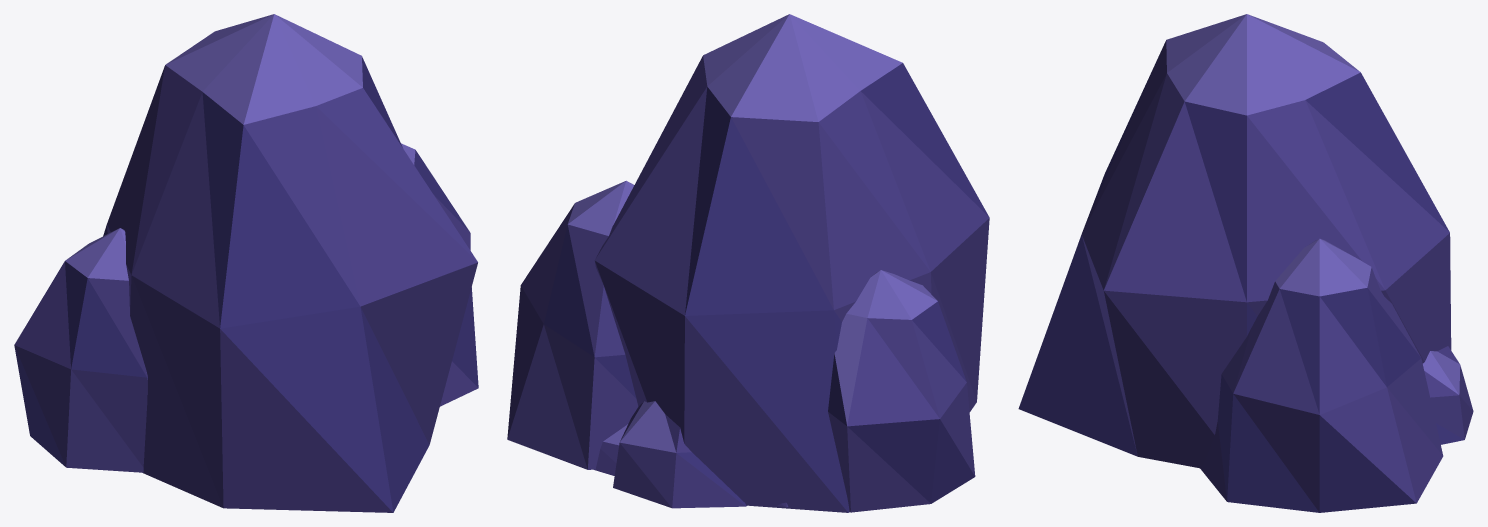
Rendered from Mine_Perimeter_Corner.obj.
The picture shows the model from 3 angles, left to right: view 1: azimuth 30°, elevation 25°; view 2: azimuth 150°, elevation 25°; view 3: azimuth 270°, elevation 25°; orthographic projection. The views are drawn at different scales.
Parts seen in each view (by area): view 1: Mine_Perimeter_Corner; view 2: Mine_Perimeter_Corner; view 3: Mine_Perimeter_Corner.
Boxes of the visible parts, <box> form: Mine_Perimeter_Corner: <box>14,14,478,512</box>; Mine_Perimeter_Corner: <box>507,14,989,512</box>; Mine_Perimeter_Corner: <box>1018,14,1473,512</box>.
Bounding box in the file's own units: 10.72 × 9.66 × 10.
